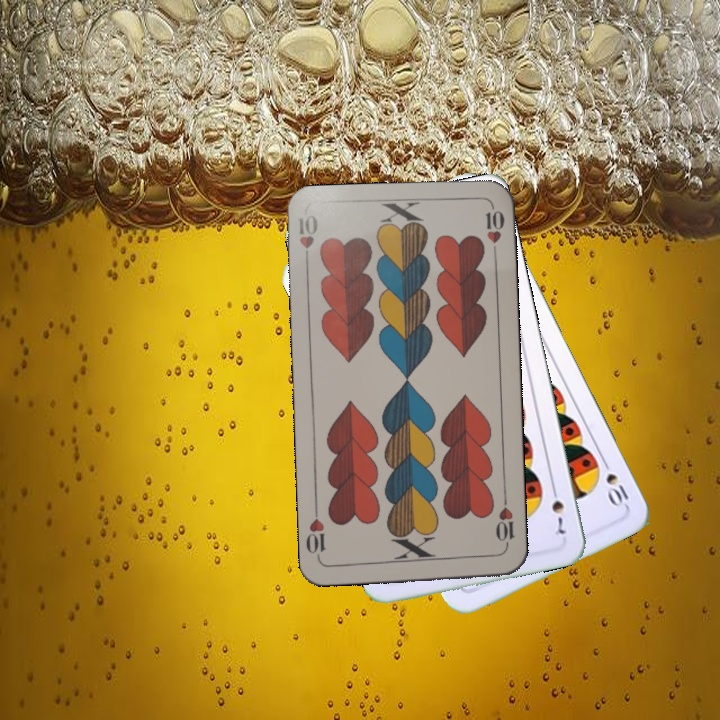H10: (294, 210, 321, 270), (491, 493, 517, 553)
S10: (597, 454, 631, 511)
S7: (547, 481, 568, 538)
